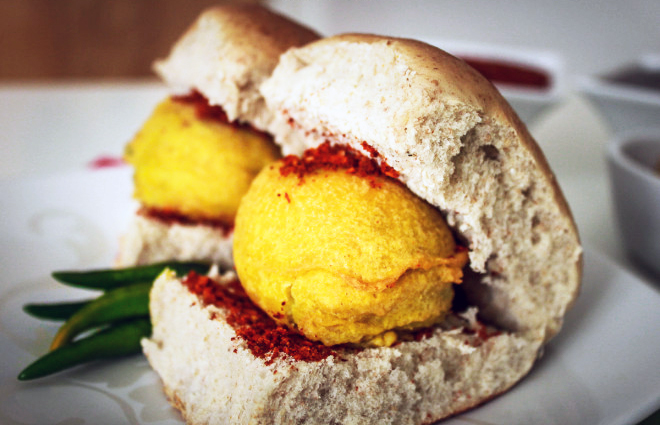vada pav: (291, 54, 457, 420), (181, 19, 229, 259)
